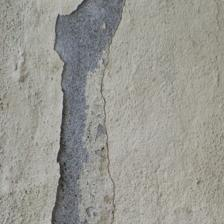Crack: (0, 0, 147, 145), (12, 59, 123, 171)
